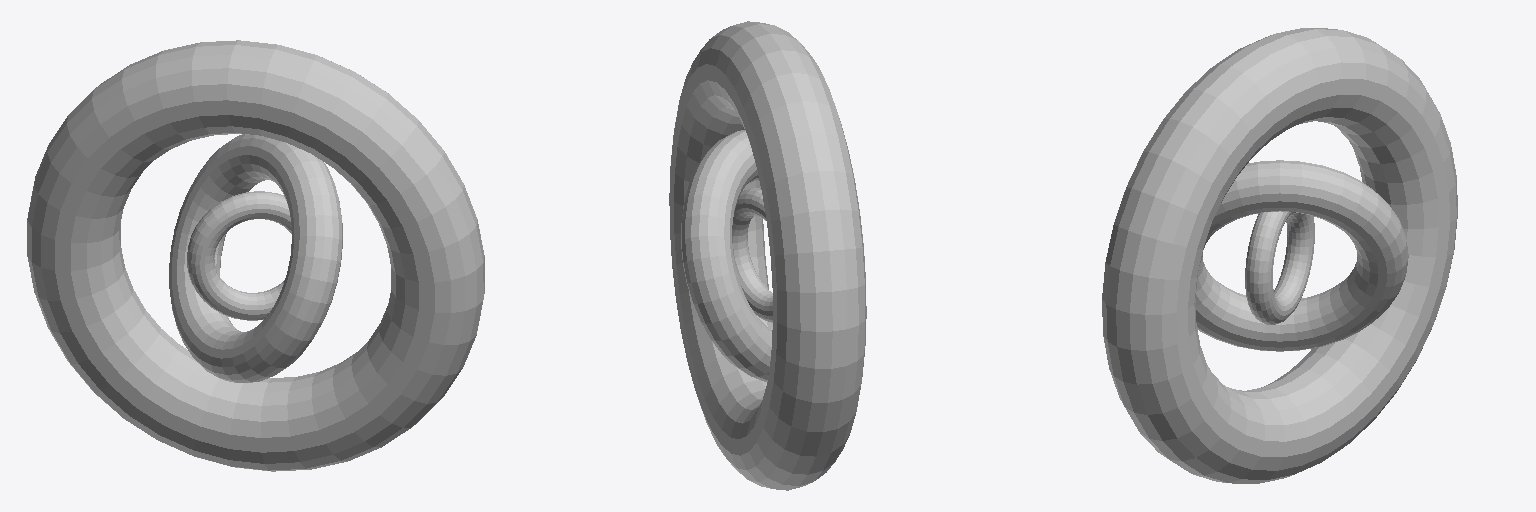
The model's file is yume1.obj.
3 renders of one model, left to right at view 1: azimuth 30°, elevation 25°; view 2: azimuth 150°, elevation 25°; view 3: azimuth 270°, elevation 25°, orthographic.
Parts seen in each view (by area): view 1: Torus.1, Torus, Torus.2; view 2: Torus.1, Torus, Torus.2; view 3: Torus.1, Torus, Torus.2.
Part boxes in pixels (left/top/right/bottom): Torus.1: left=27, top=40, right=484, bottom=471; Torus: left=169, top=134, right=342, bottom=382; Torus.2: left=187, top=191, right=291, bottom=320; Torus.1: left=669, top=21, right=866, bottom=490; Torus: left=681, top=130, right=771, bottom=381; Torus.2: left=732, top=188, right=772, bottom=322; Torus.1: left=1102, top=28, right=1457, bottom=483; Torus: left=1196, top=160, right=1408, bottom=351; Torus.2: left=1245, top=211, right=1314, bottom=324.
Bounding box in the file's own units: 706 × 911 × 691.